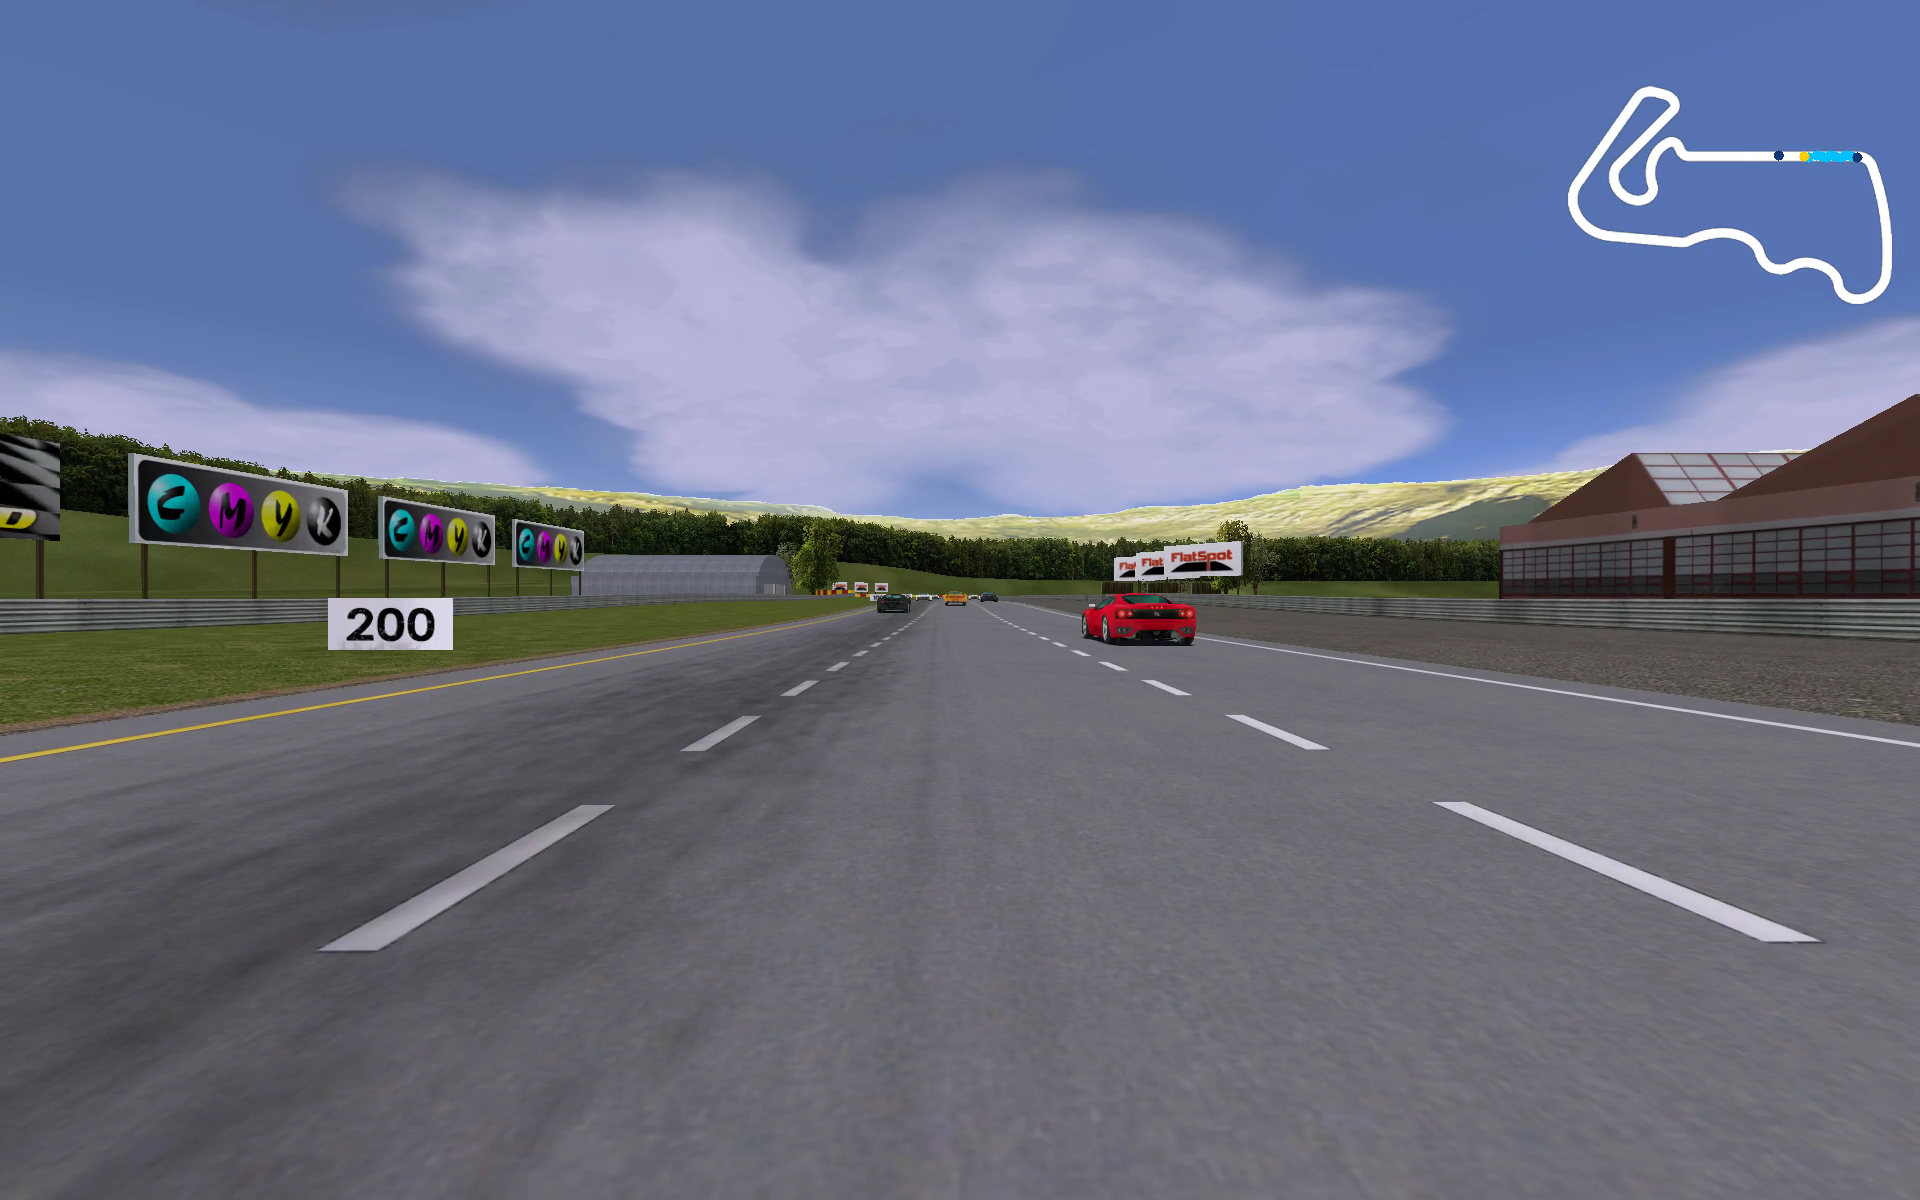car: (1081, 592, 1198, 646), (875, 592, 912, 612), (941, 590, 968, 607), (981, 594, 998, 604), (915, 594, 932, 603)
